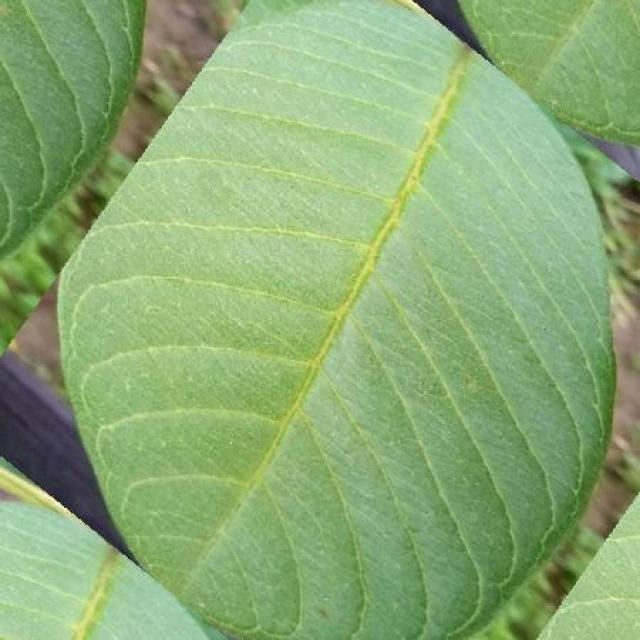Disease Free: (59, 1, 614, 640), (0, 503, 225, 640), (461, 0, 639, 146)
